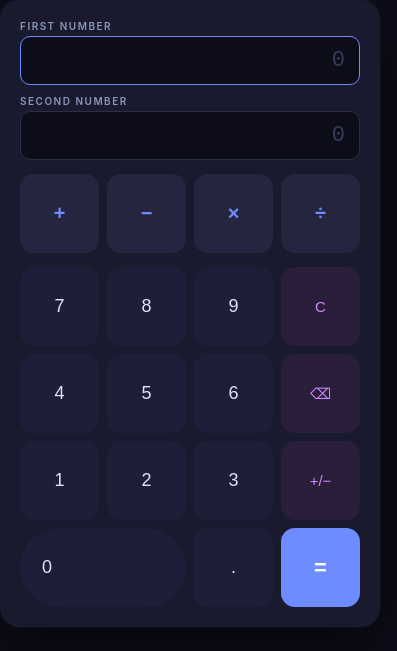
Scenario: Integration — addition › shows field labels for addition
Click the button with test id "op-add" at (60, 214), box [20,174,99,253]
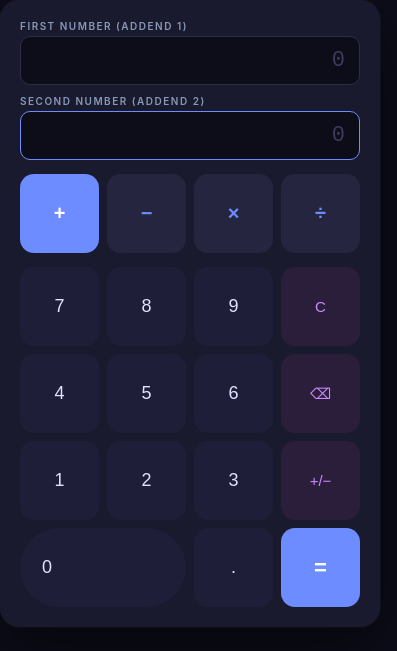
Check: the field labelled "First Number (Addend 1)" is shown, box [20,36,360,85]
Check: the field labelled "Second Number (Addend 2)" is shown, box [20,111,360,160]
